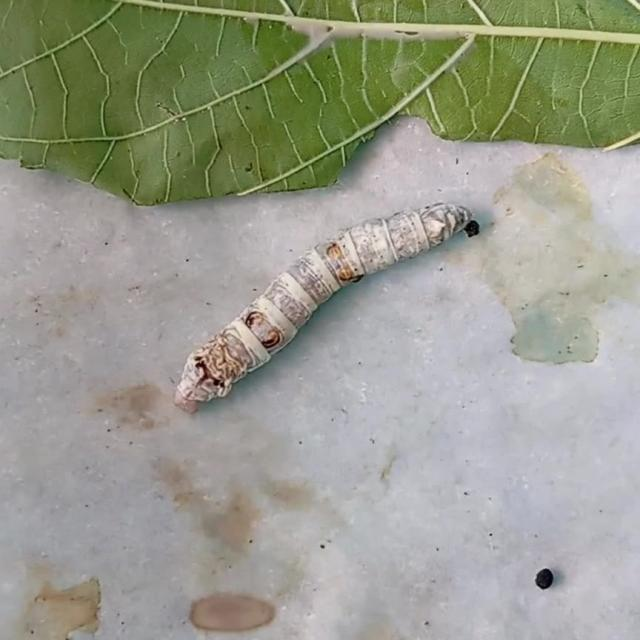Grasserie: (168, 178, 473, 430)
